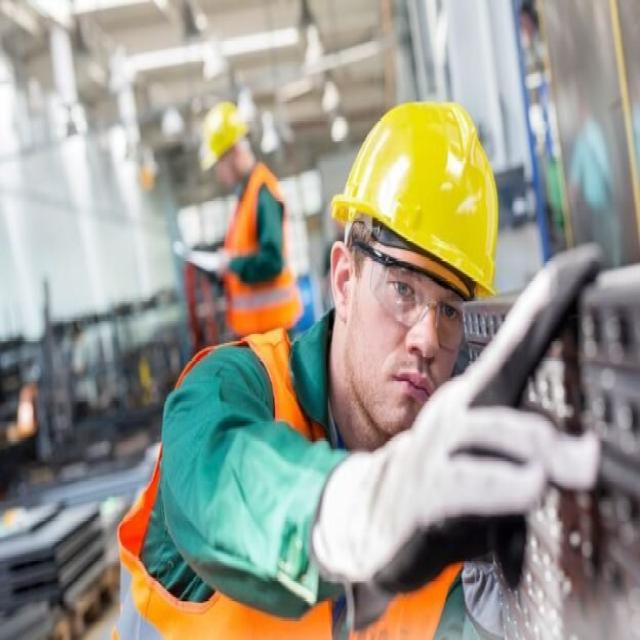illegal_helmet: (318, 89, 507, 452)
